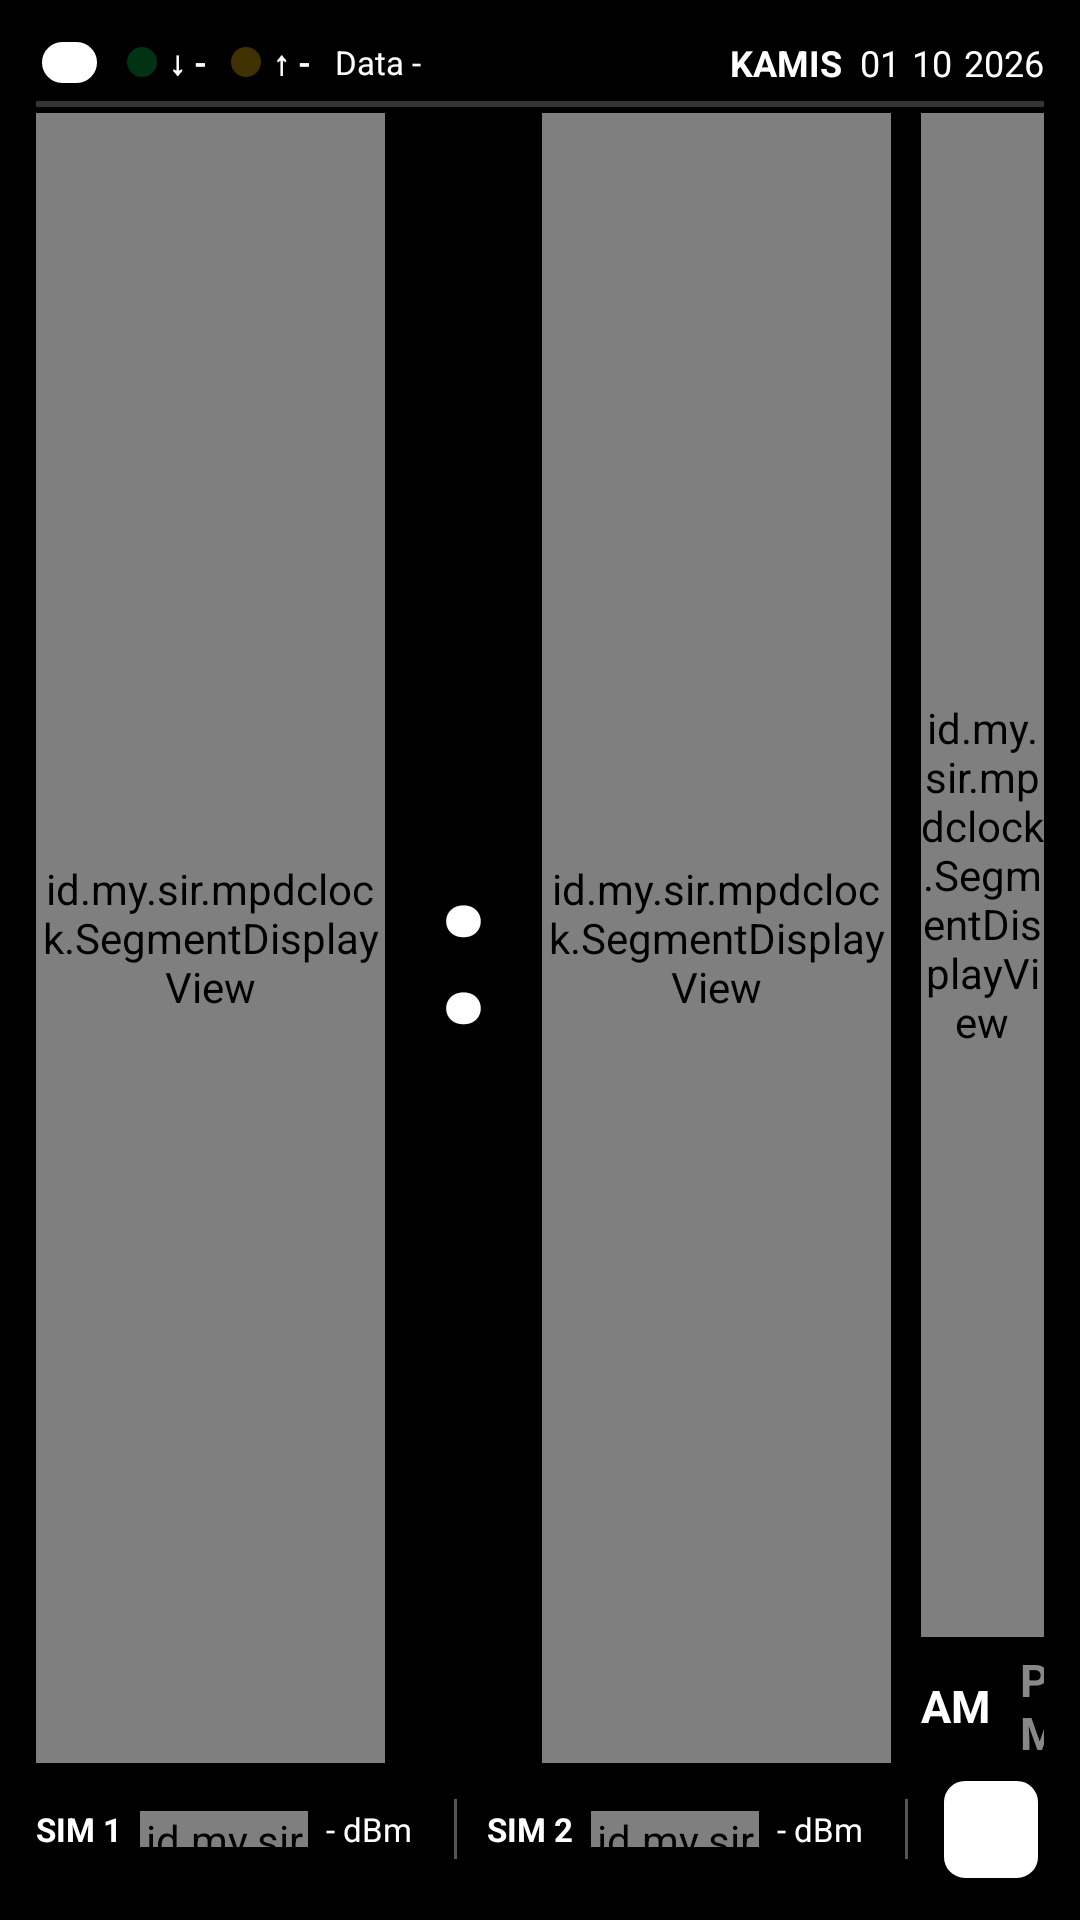

Screen size 1080 × 1920. Icon name, then its center in pixels as [x,y]:
led: [142,62], [246,62]
